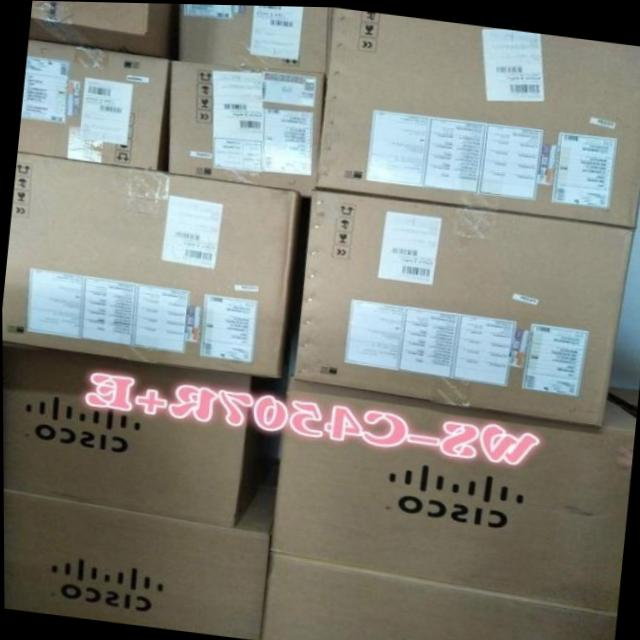box: (269, 378, 635, 610), (291, 187, 635, 425), (315, 6, 640, 226), (2, 151, 297, 378), (3, 342, 268, 527), (3, 488, 274, 639), (260, 551, 616, 640), (169, 59, 327, 196), (17, 37, 169, 170), (179, 3, 330, 71), (28, 1, 180, 60)
